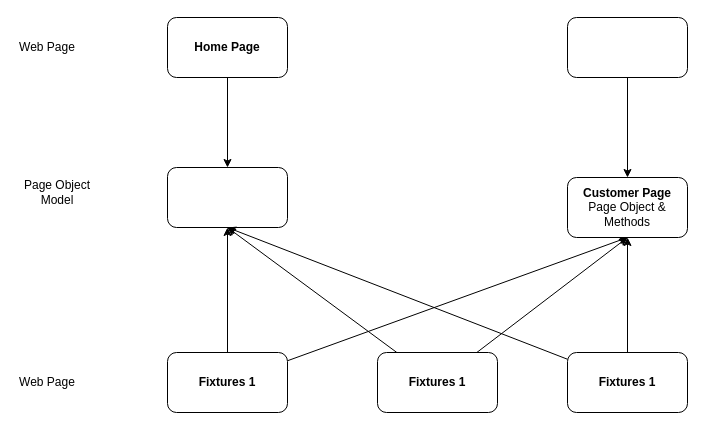
Some shapes in this 705 by 430 pixel diagram are drawn without their labels. The shapes that lost their labels are listed below. From the top down, each one's box as (x1, y1, x2, y2) in pixels, then its label:
(566, 16, 688, 78): Customer Page
(166, 166, 288, 228): Home Page Page object & Methods
